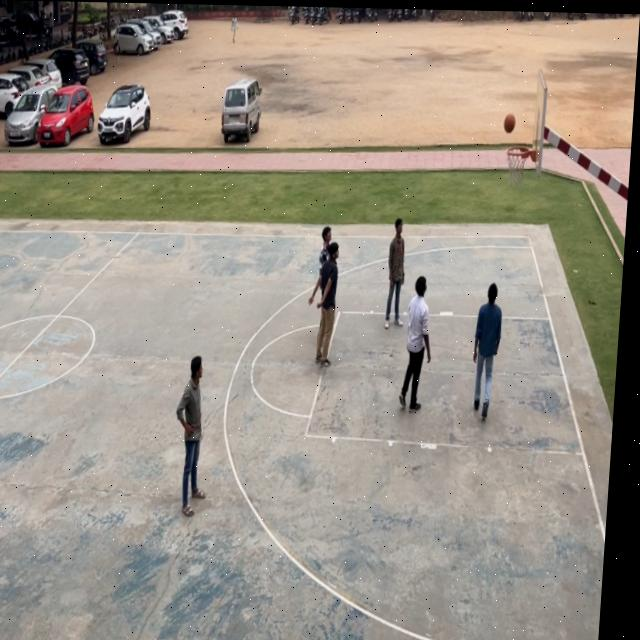basketball: (502, 110, 518, 140)
hoop: (504, 144, 532, 190)
